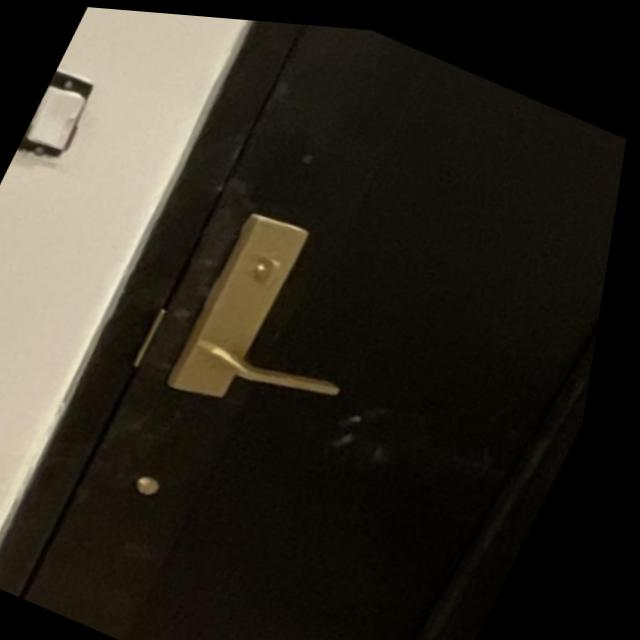door_handle: (158, 296, 382, 451)
